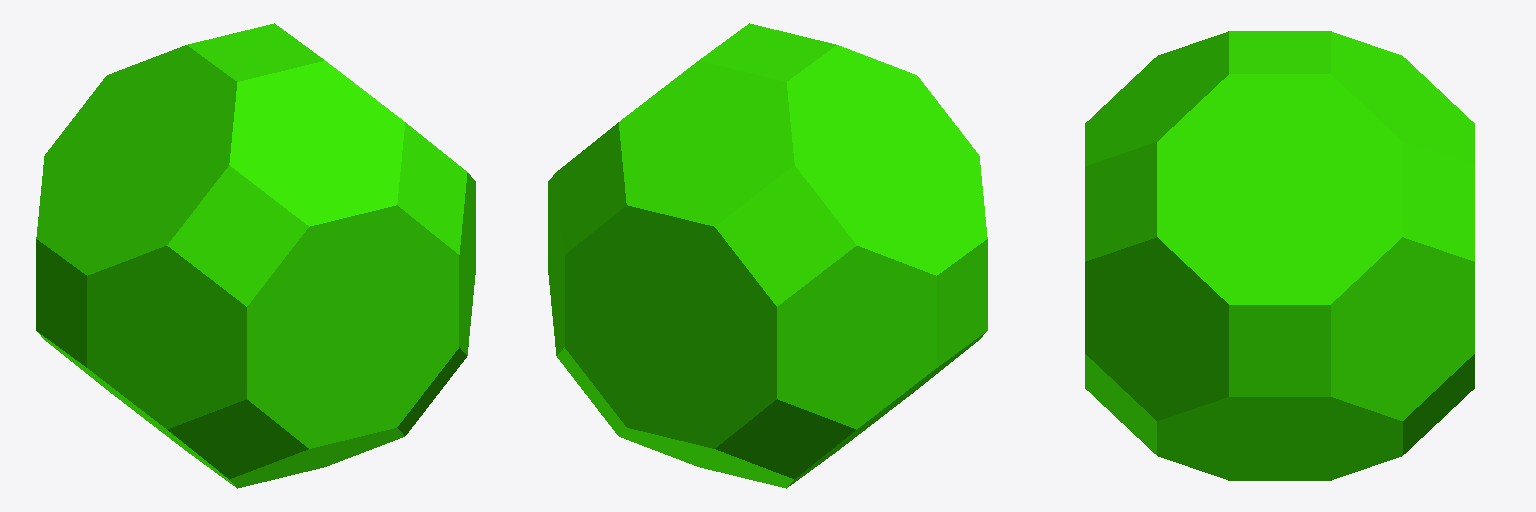
File: catom3Dsimple.obj
3 views of the same model, side by side, from view 1: azimuth 30°, elevation 25°; view 2: azimuth 150°, elevation 25°; view 3: azimuth 270°, elevation 25° (orthographic).
Visible parts, largest first — view 1: catom_origine; view 2: catom_origine; view 3: catom_origine.
Part boxes in pixels (bbox=[...]): catom_origine: bbox=[36, 23, 475, 488]; catom_origine: bbox=[548, 23, 987, 488]; catom_origine: bbox=[1085, 31, 1474, 480].
Bounding box in the file's own units: 9.99 × 9.99 × 8.67.